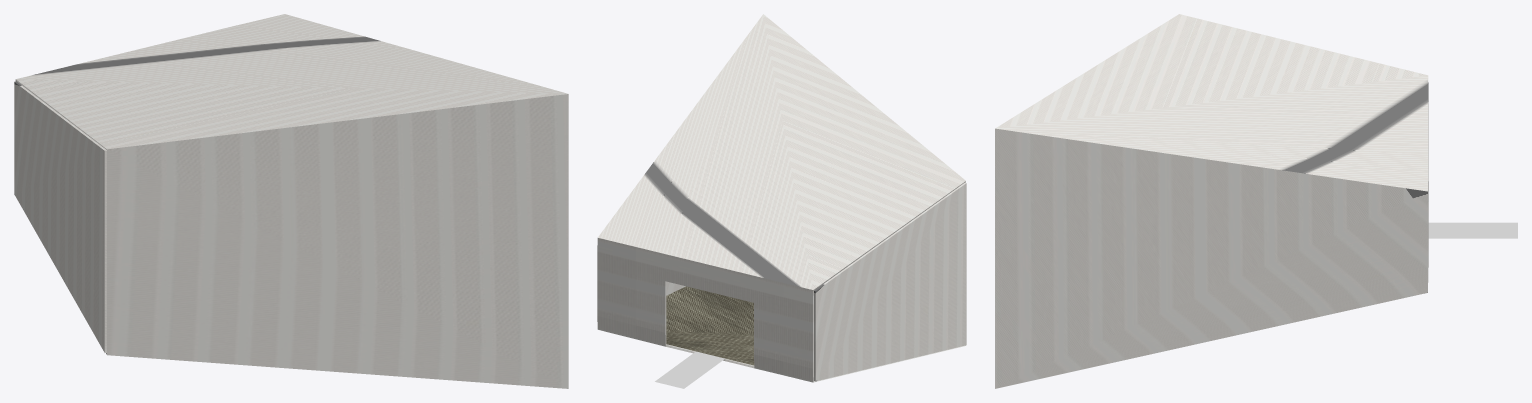
The picture shows the model from 3 angles, left to right: view 1: azimuth 30°, elevation 25°; view 2: azimuth 150°, elevation 25°; view 3: azimuth 270°, elevation 25°; orthographic projection. The views are drawn at different scales.
Parts seen in each view (by area): view 1: Room; view 2: Room, Floor, Walkway; view 3: Room, Walkway.
Boxes of the visible parts, bbox=[...] form: Room: bbox=[14, 14, 568, 388]; Room: bbox=[597, 14, 966, 382]; Floor: bbox=[666, 286, 754, 365]; Walkway: bbox=[655, 351, 724, 388]; Room: bbox=[995, 14, 1428, 388]; Walkway: bbox=[1428, 222, 1517, 238].
Size of the model in its own units: 3.05 by 2.4 by 4.37.
Materials: 5 (2 with a texture image).
